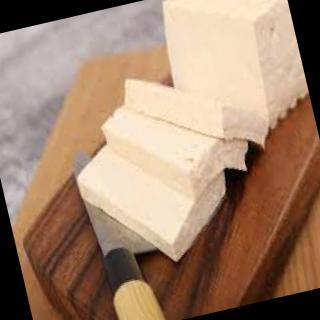Tahu: (52, 1, 320, 253)
